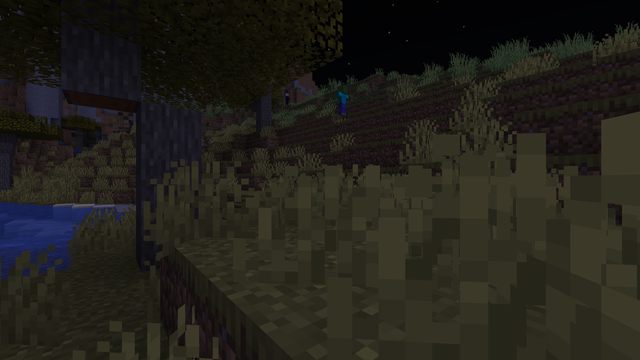sorcieres: (284, 92, 289, 105)
zombies: (336, 85, 348, 115)
